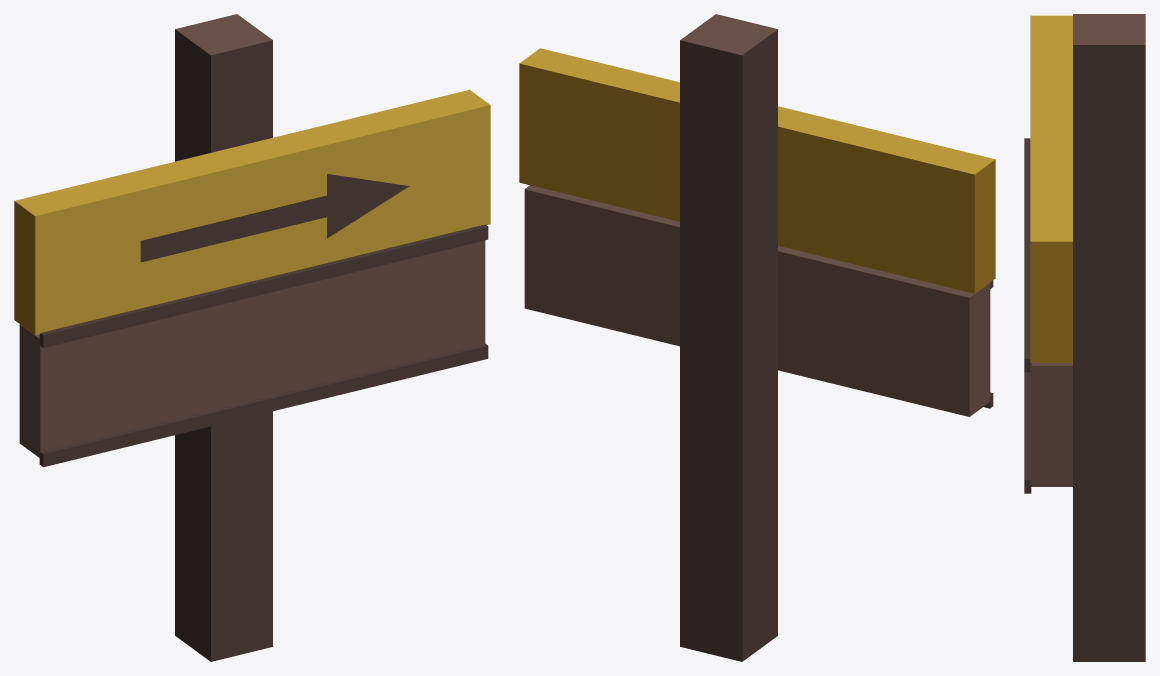
The model's file is sign_yellow.fbx.
3 renders of one model, left to right at view 1: azimuth 30°, elevation 25°; view 2: azimuth 150°, elevation 25°; view 3: azimuth 270°, elevation 25°, orthographic.
Visible parts, largest first — view 1: sign_yellow; view 2: sign_yellow; view 3: sign_yellow.
Part boxes in pixels (x1=…): sign_yellow: x1=14, y1=14, x2=490, y2=661; sign_yellow: x1=519, y1=14, x2=995, y2=661; sign_yellow: x1=1024, y1=14, x2=1145, y2=661.
Size of the model in its own units: 0.44 by 0.56 by 0.1.
